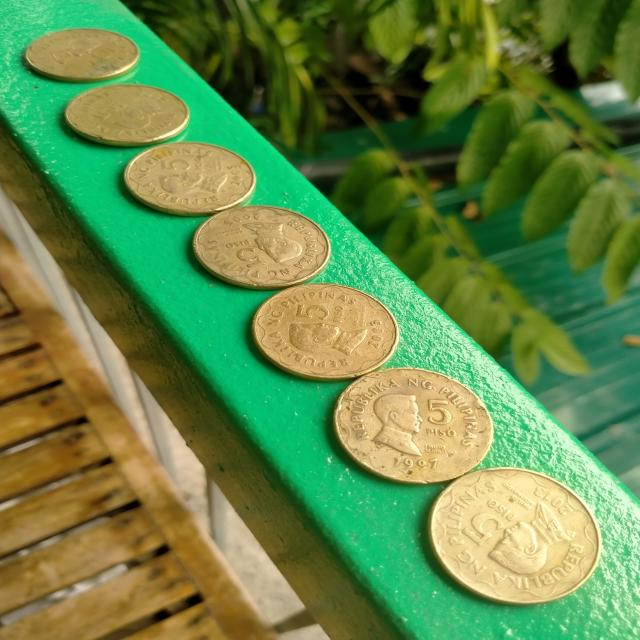5_Old_Front: (273, 292, 383, 370), (364, 384, 468, 461), (202, 217, 315, 277), (138, 148, 249, 202)
